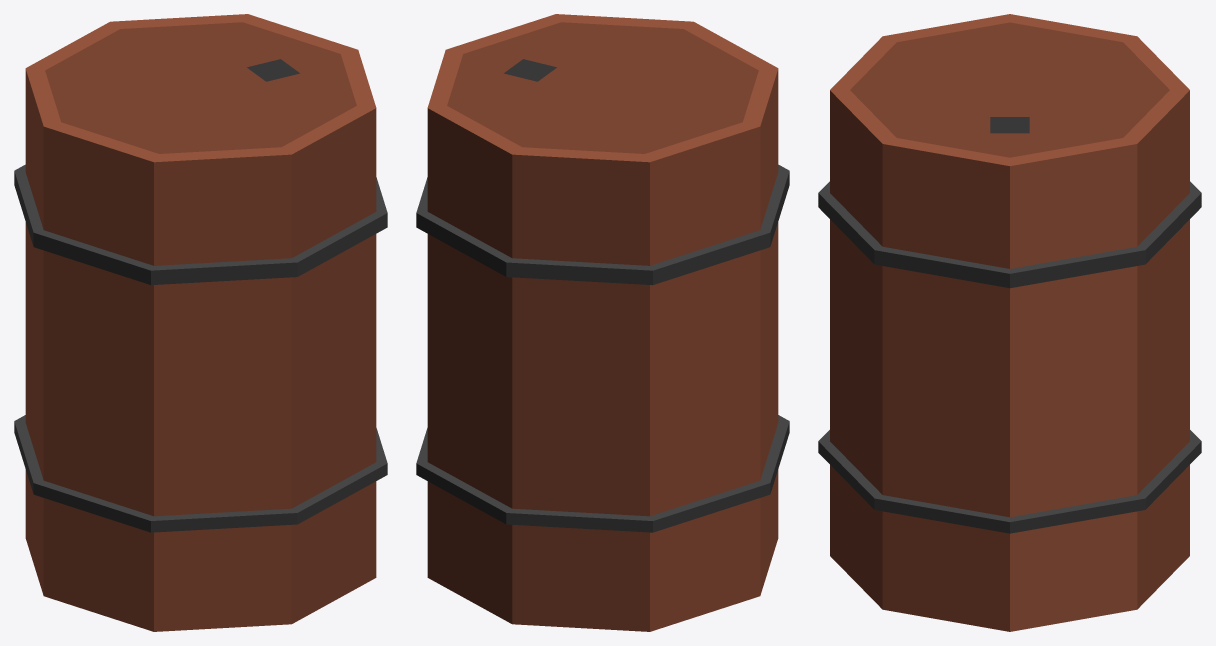
Rendered from SA_Prop_Barrel_02.glb.
The picture shows the model from 3 angles, left to right: view 1: azimuth 30°, elevation 25°; view 2: azimuth 150°, elevation 25°; view 3: azimuth 270°, elevation 25°; orthographic projection.
Visible parts, largest first — view 1: SA_Prop_Barrel_02; view 2: SA_Prop_Barrel_02; view 3: SA_Prop_Barrel_02.
Boxes of the visible parts, left/top/right/bottom form: SA_Prop_Barrel_02: left=14, top=14, right=387, bottom=631; SA_Prop_Barrel_02: left=416, top=14, right=789, bottom=631; SA_Prop_Barrel_02: left=818, top=14, right=1201, bottom=631.
Bounding box in the file's own units: 0.8938 × 1.2 × 0.8938.
Materials: 1 (1 with a texture image).
